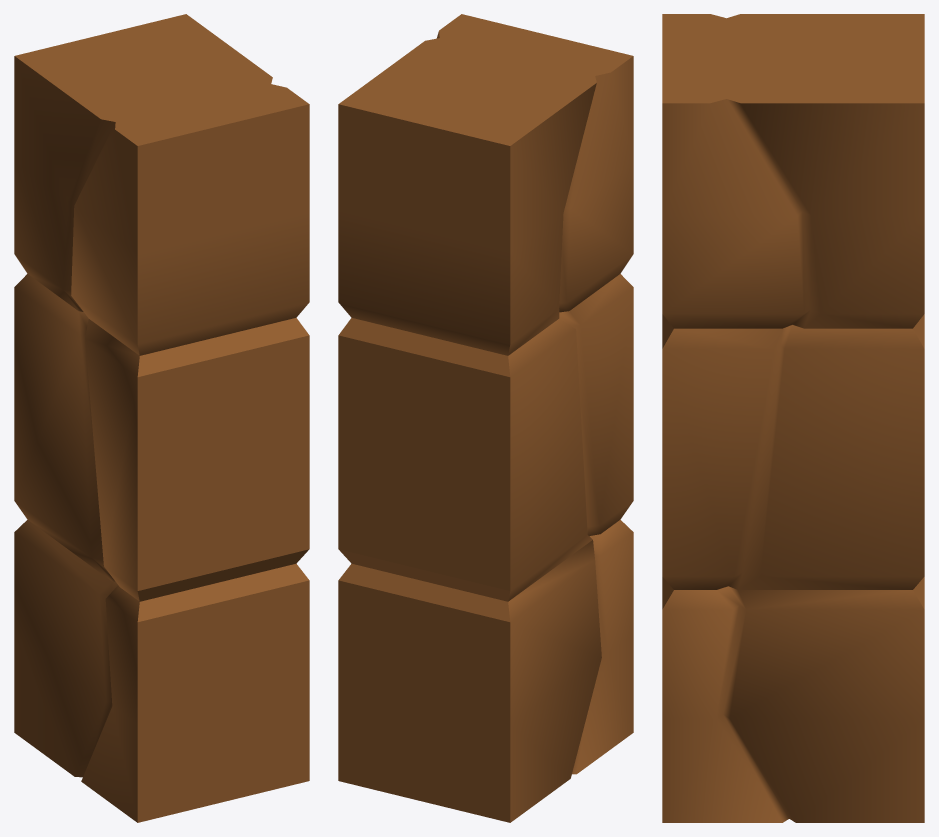
File: broken_arch_pillar.fbx
The picture shows the model from 3 angles, left to right: view 1: azimuth 30°, elevation 25°; view 2: azimuth 150°, elevation 25°; view 3: azimuth 270°, elevation 25°; orthographic projection. The views are drawn at different scales.
Visible parts, largest first — view 1: broken_arch_pillar; view 2: broken_arch_pillar; view 3: broken_arch_pillar.
Part boxes in pixels (box(x1,y1,x2,y2)): broken_arch_pillar: box(14, 14, 309, 822); broken_arch_pillar: box(338, 14, 633, 822); broken_arch_pillar: box(662, 14, 924, 822).
Bounding box in the file's own units: 4.67 × 17.58 × 5.8.
